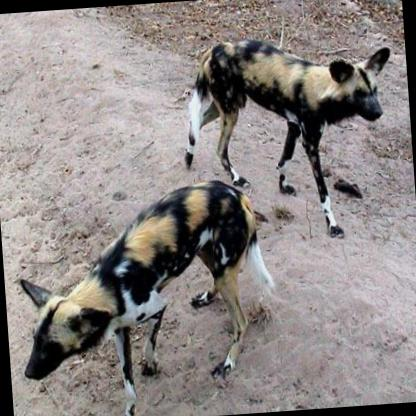African_hunting_dog: (12, 173, 282, 416), (172, 26, 402, 252)
